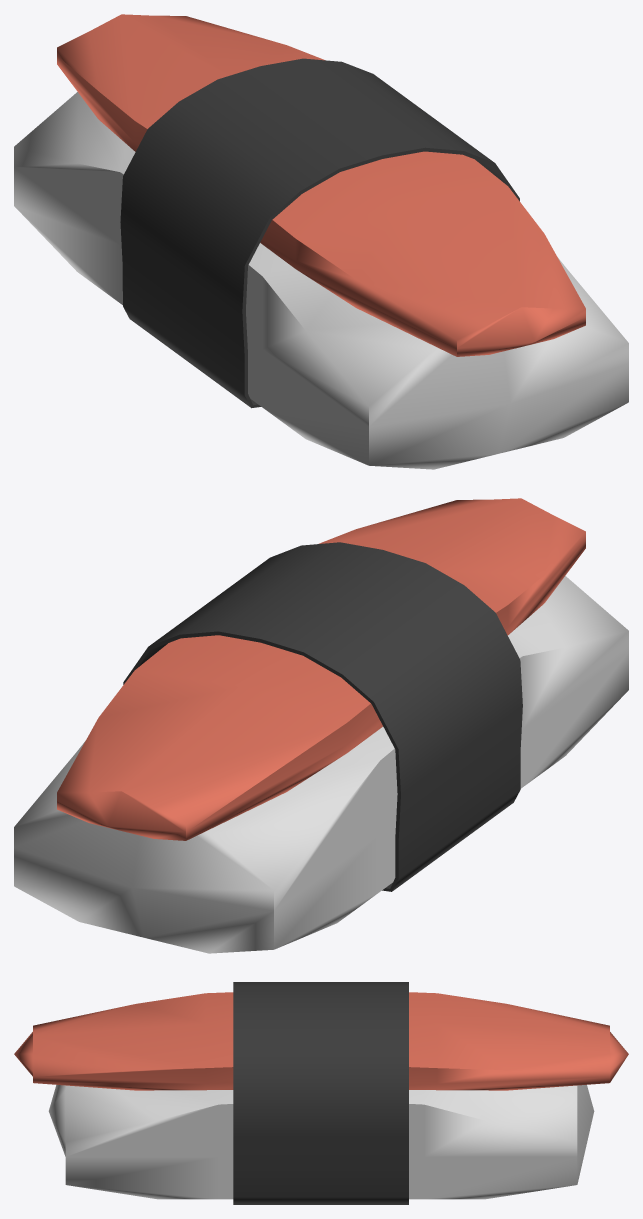
File: Sushi7.fbx
3 renders of one model, top to bottom at view 1: azimuth 30°, elevation 25°; view 2: azimuth 150°, elevation 25°; view 3: azimuth 270°, elevation 25°, orthographic. The views are drawn at different scales.
Parts seen in each view (by area): view 1: sushi7; view 2: sushi7; view 3: sushi7.
Part boxes in pixels (x1=…): sushi7: x1=14, y1=14, x2=628, y2=469; sushi7: x1=14, y1=498, x2=628, y2=953; sushi7: x1=14, y1=982, x2=628, y2=1204.
Size of the model in its own units: 3.92 by 3.1 by 10.33.
